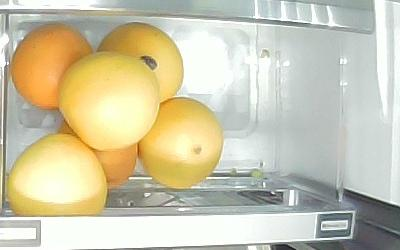grapefruit: (57, 51, 161, 151), (8, 133, 108, 214), (139, 97, 224, 188), (9, 22, 92, 111), (94, 22, 183, 103), (59, 119, 138, 187)
